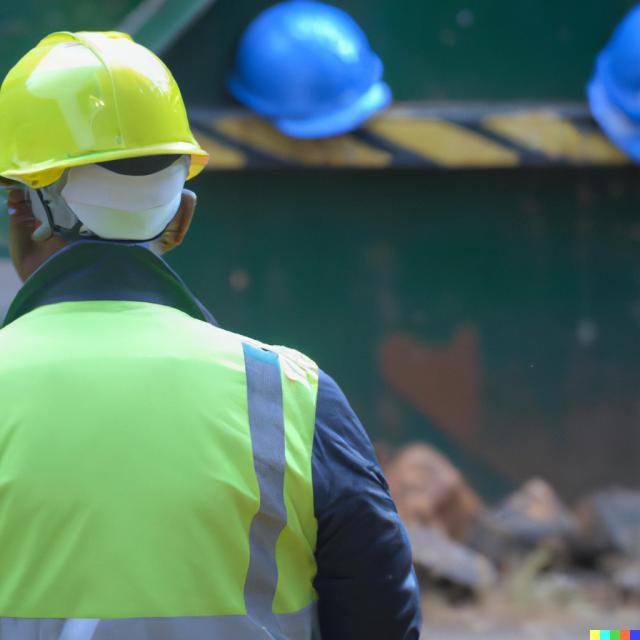Reflective-Jacket: (0, 297, 338, 622)
Safety-Helmet: (0, 30, 206, 184), (221, 0, 395, 141), (581, 0, 639, 174)
